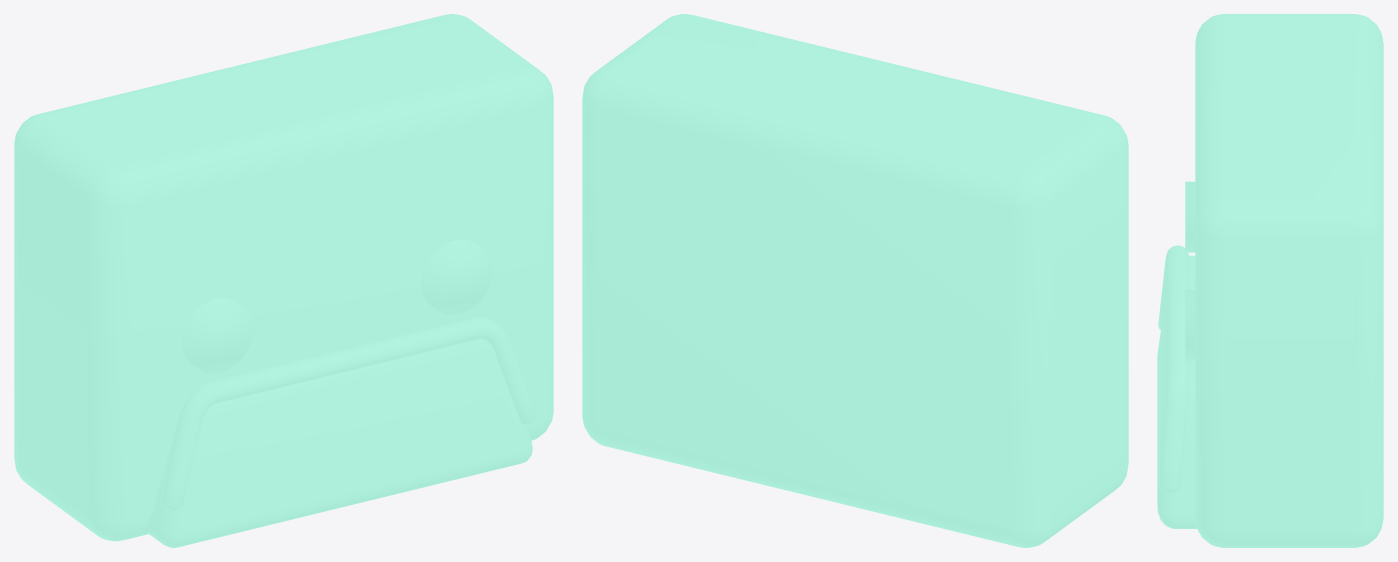
File: outline2_1_b.glb
The picture shows the model from 3 angles, left to right: view 1: azimuth 30°, elevation 25°; view 2: azimuth 150°, elevation 25°; view 3: azimuth 270°, elevation 25°; orthographic projection. The views are drawn at different scales.
Parts seen in each view (by area): view 1: head.001, mouth, eye, eye.001; view 2: head.001; view 3: head.001, mouth, eye, eye.001.
Part boxes in pixels (x1,y1,x2,y2): head.001: (14, 14, 553, 547); mouth: (160, 317, 536, 510); eye: (182, 298, 253, 373); eye.001: (421, 239, 492, 314); head.001: (582, 14, 1128, 547); head.001: (1157, 14, 1383, 547); mouth: (1158, 245, 1188, 493); eye: (1185, 181, 1195, 252); eye.001: (1185, 290, 1195, 360).
Size of the model in its own units: 2 by 1.54 by 0.9141.
